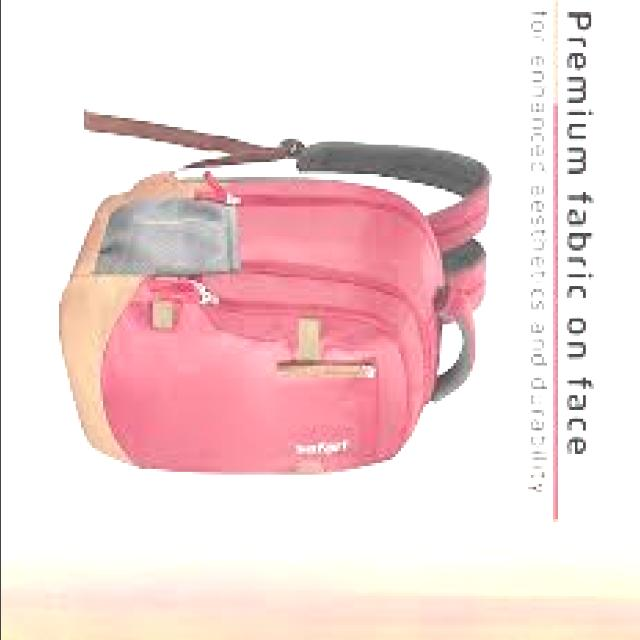backpack: (59, 108, 495, 476)
